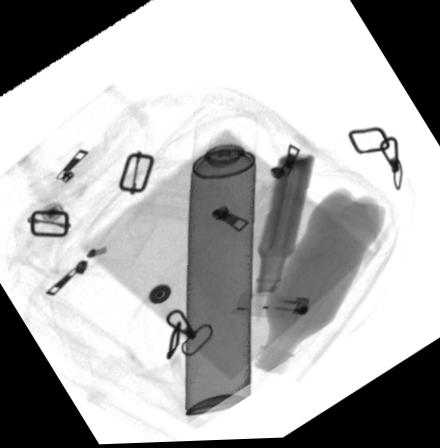Lighter: (231, 292, 311, 323)
Sprayer: (184, 107, 256, 416)
